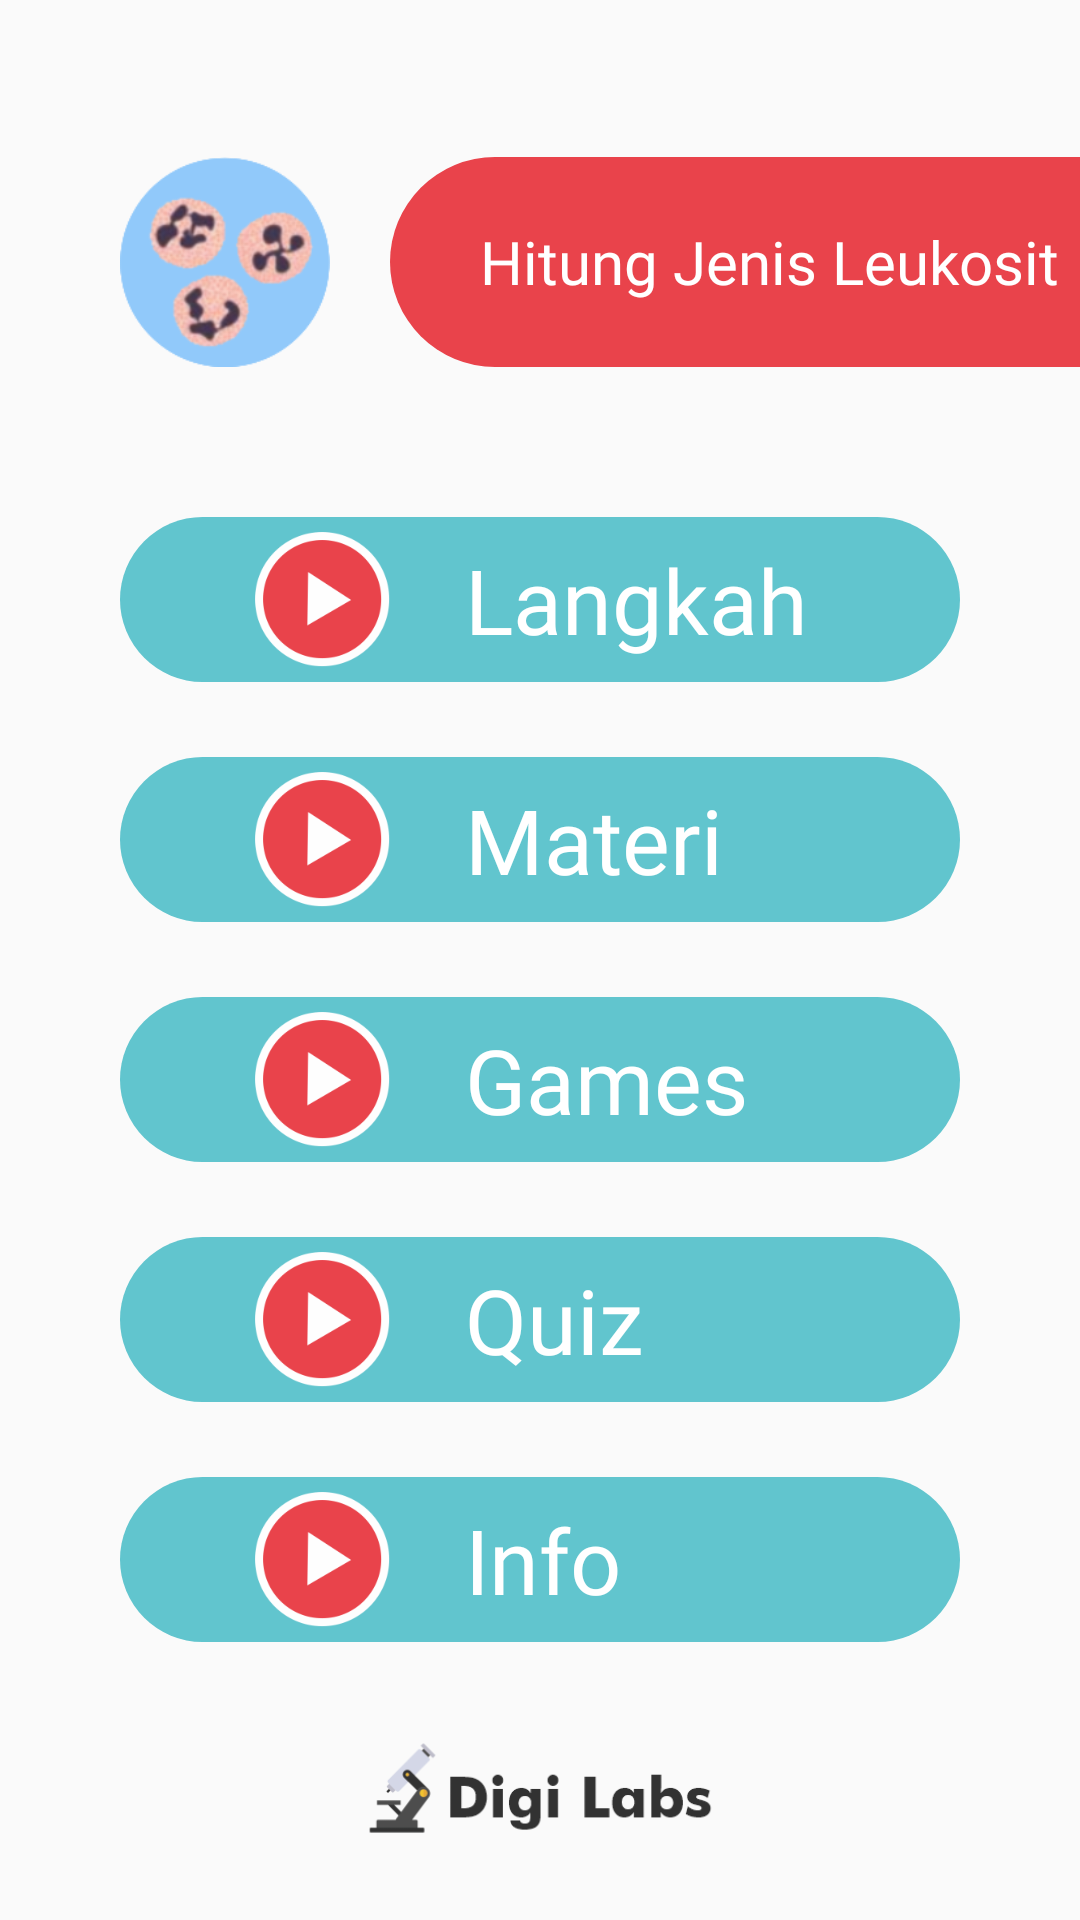

Icon click points for this 1080px×1920px phone screenshot, format point (x, y):
play: point (322, 599), point (322, 839), point (322, 1079), point (322, 1319), point (322, 1559)
